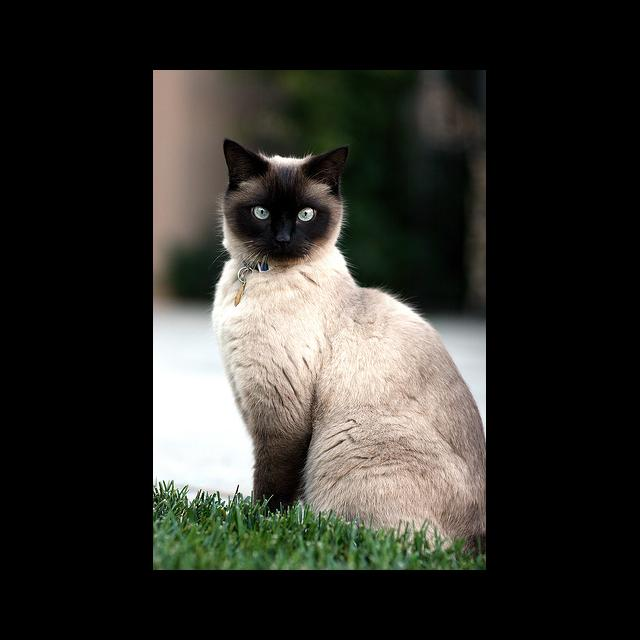animals: (226, 139, 346, 243)
